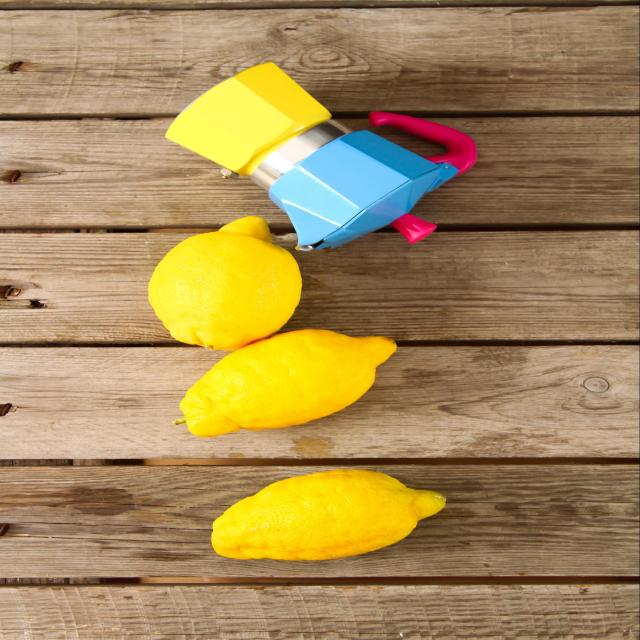lemon: (171, 325, 402, 441), (207, 467, 449, 564)
